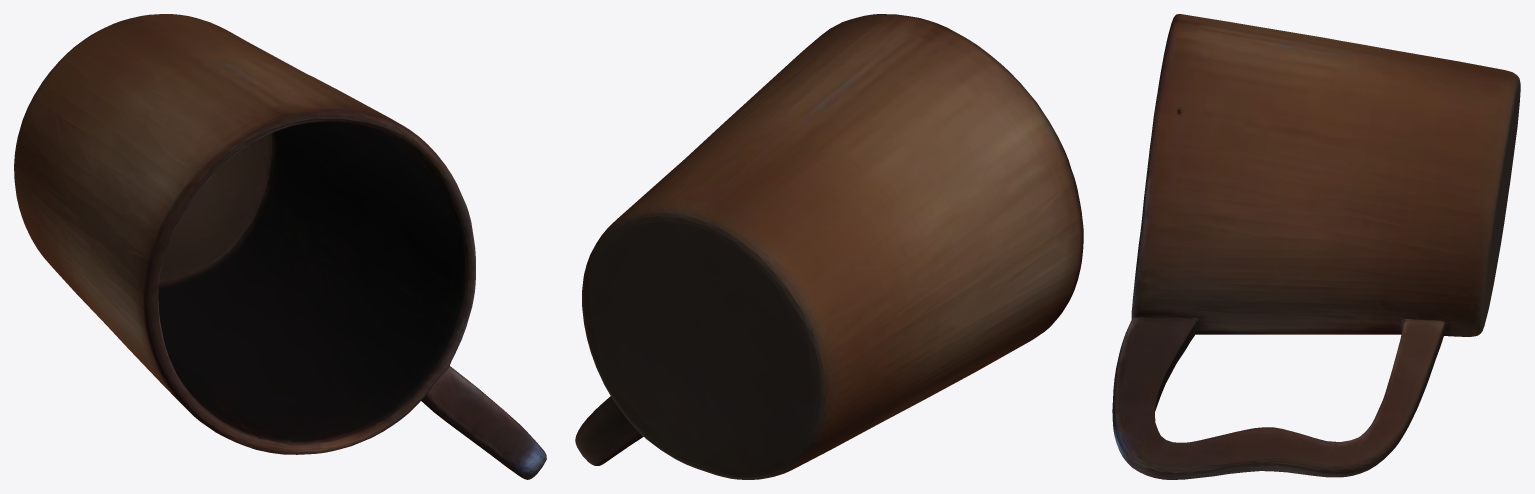
The model's file is mug3.glb.
The picture shows the model from 3 angles, left to right: view 1: azimuth 30°, elevation 25°; view 2: azimuth 150°, elevation 25°; view 3: azimuth 270°, elevation 25°; orthographic projection. The views are drawn at different scales.
Parts seen in each view (by area): view 1: geometry_0; view 2: geometry_0; view 3: geometry_0.
Boxes of the visible parts, x1,y1,x2,y2 form: geometry_0: (14, 14, 546, 479); geometry_0: (575, 14, 1083, 479); geometry_0: (1112, 14, 1520, 479).
Bounding box in the file's own units: 0.0914 × 0.0933 × 0.0955.
Materials: 1 (1 with a texture image).
